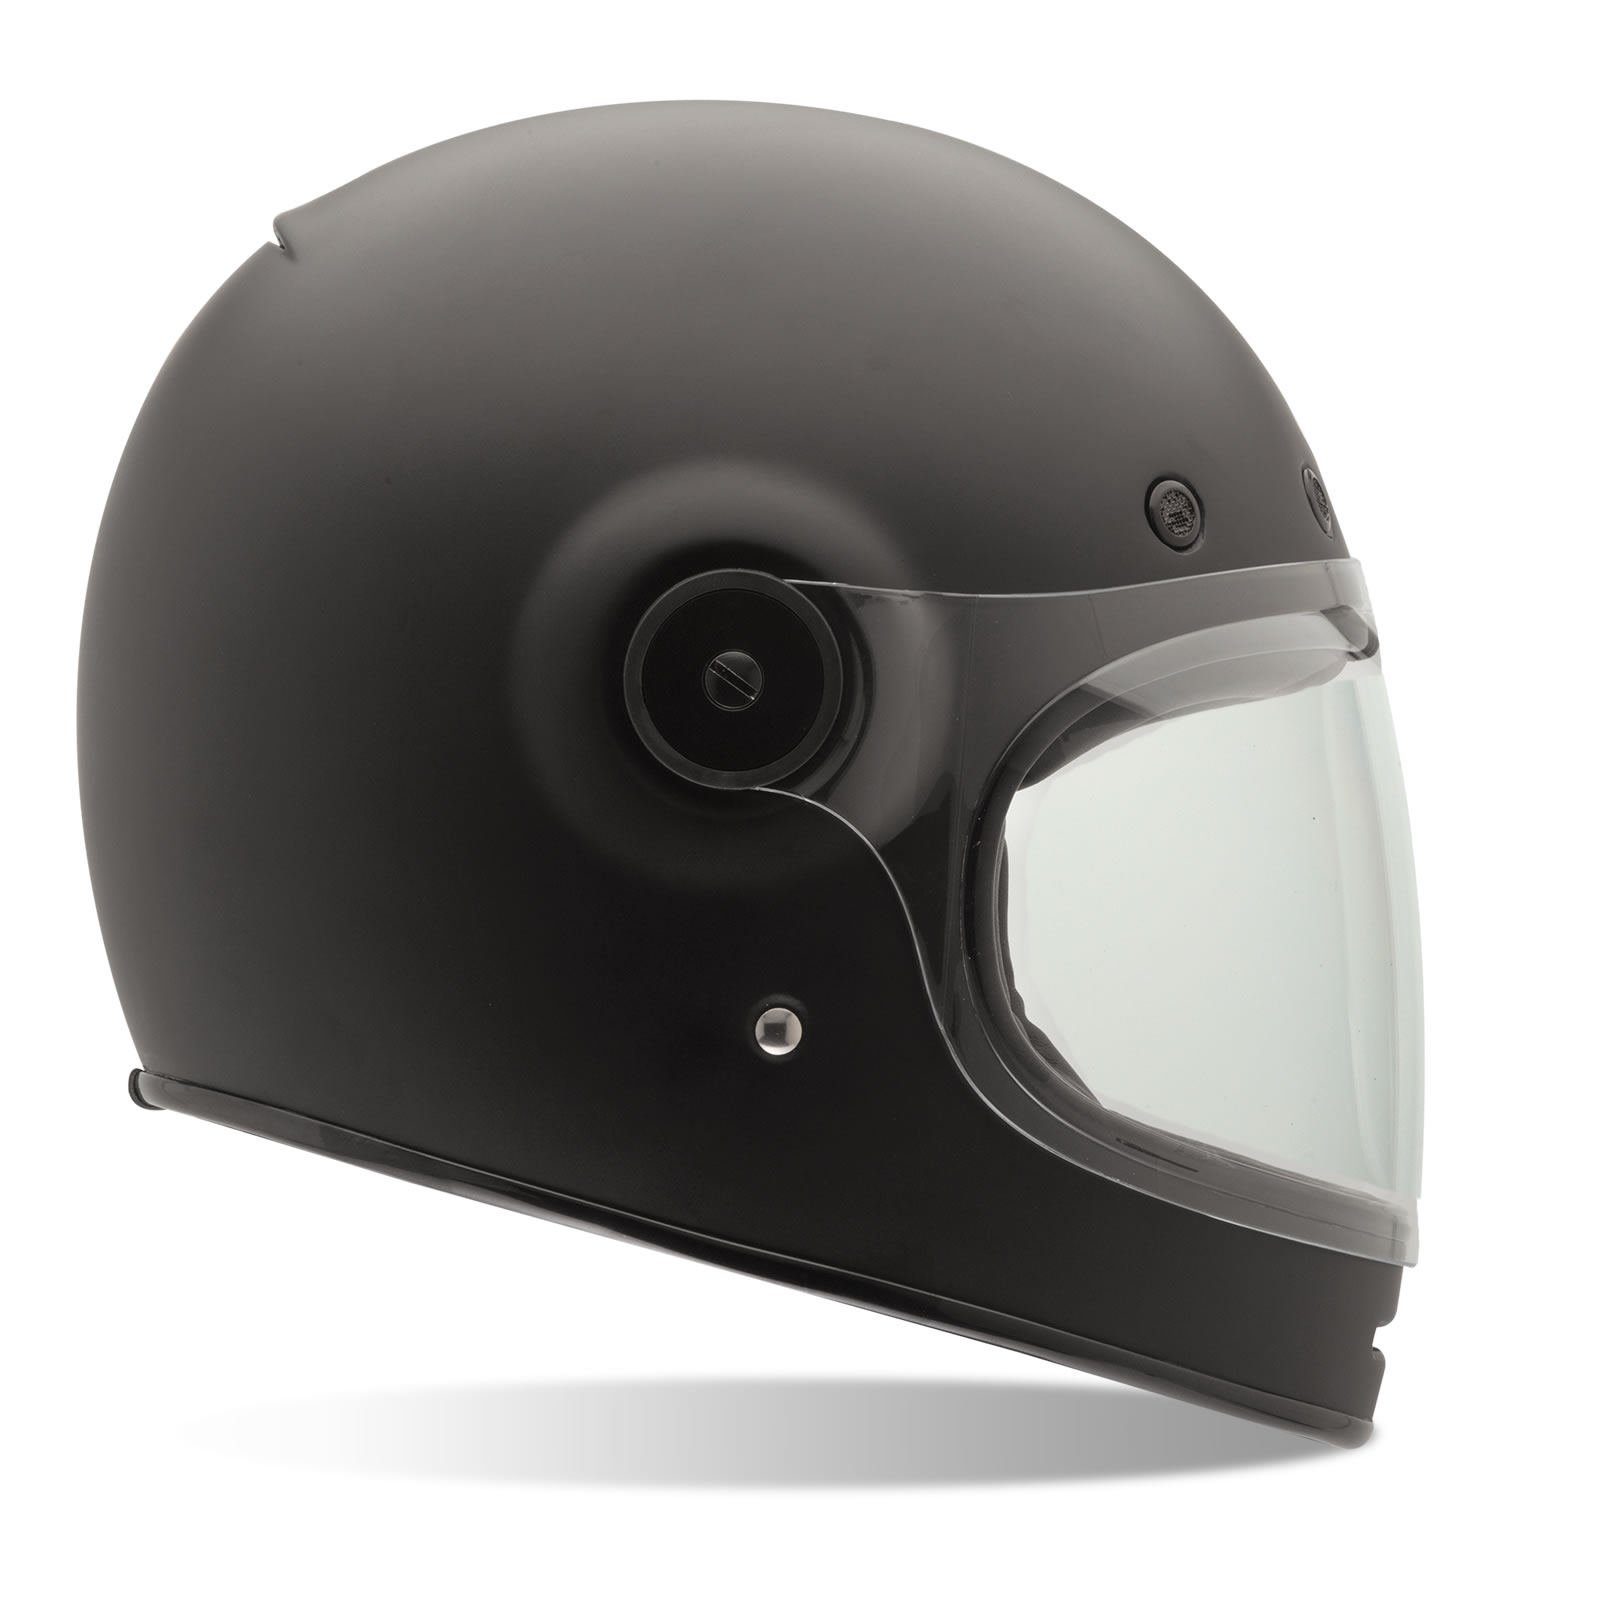with_helmet: (70, 91, 1427, 1456)
